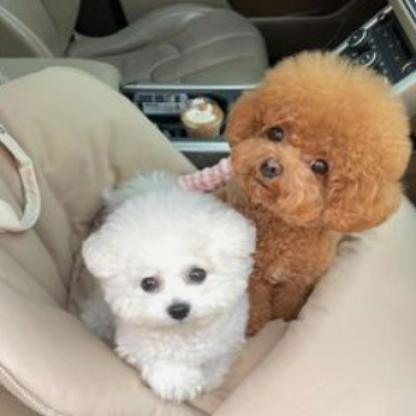dog: (52, 169, 279, 403), (219, 40, 409, 229)
